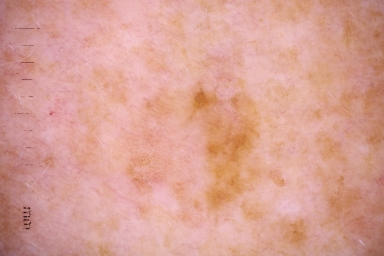melanoma: (205, 91, 257, 210)
